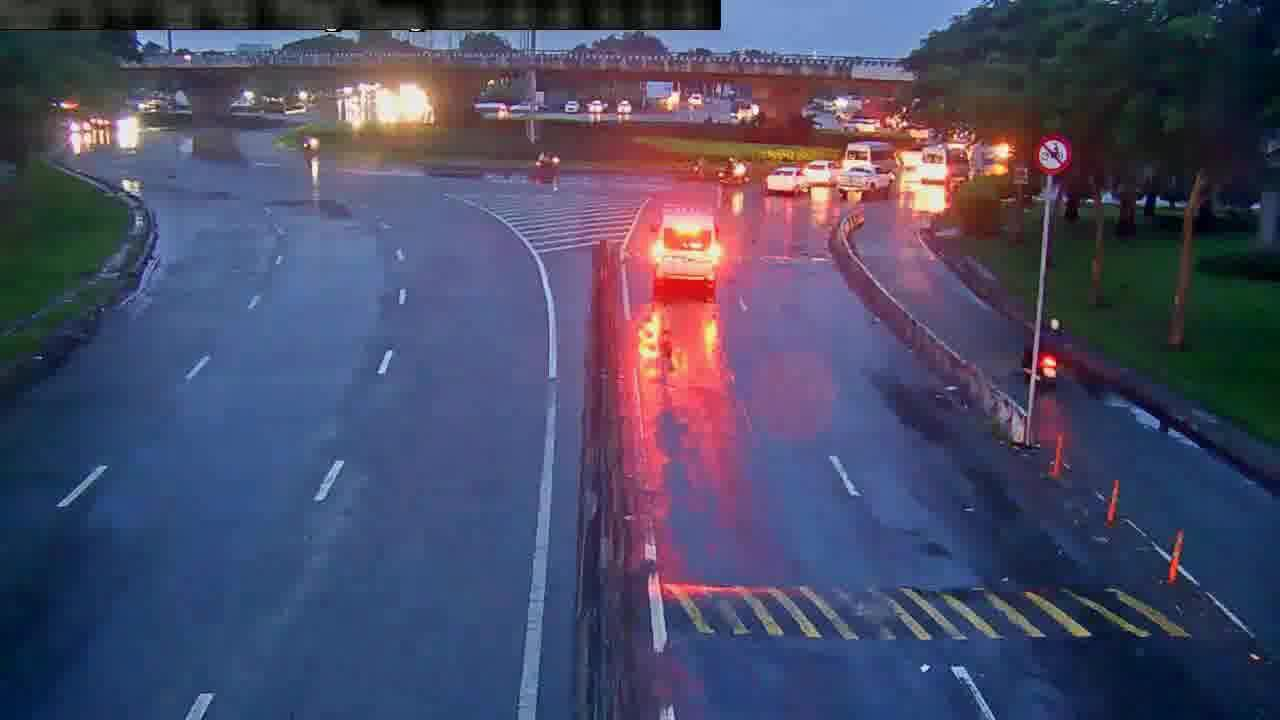14: (647, 199, 722, 295), (916, 147, 971, 188)
container: (840, 165, 896, 198), (767, 166, 813, 197), (809, 157, 844, 186)
motorbike: (1026, 316, 1062, 388)
